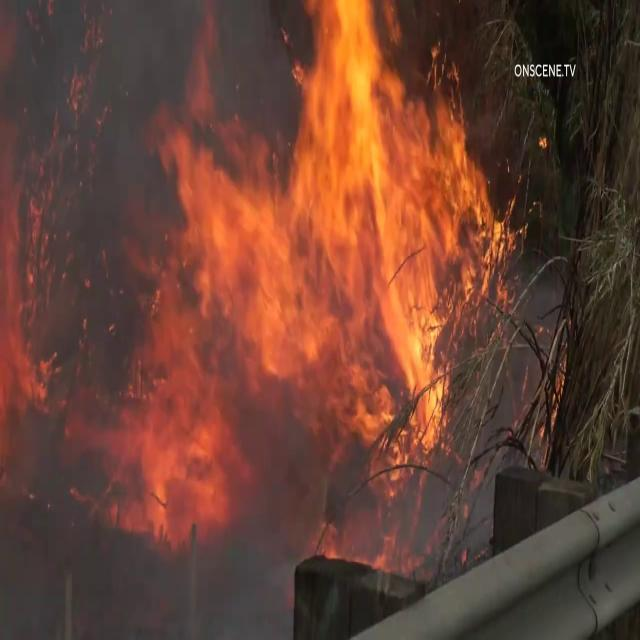Fire: (130, 1, 528, 524), (0, 8, 60, 502)
